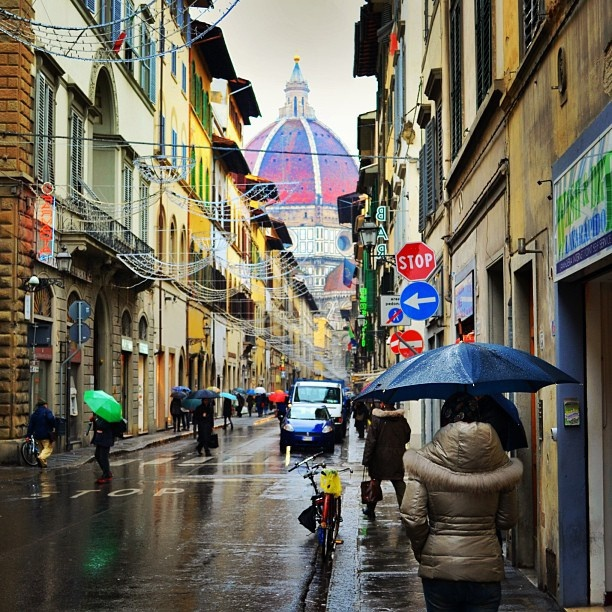non-vehicle: (286, 452, 348, 575), (21, 433, 41, 466)
